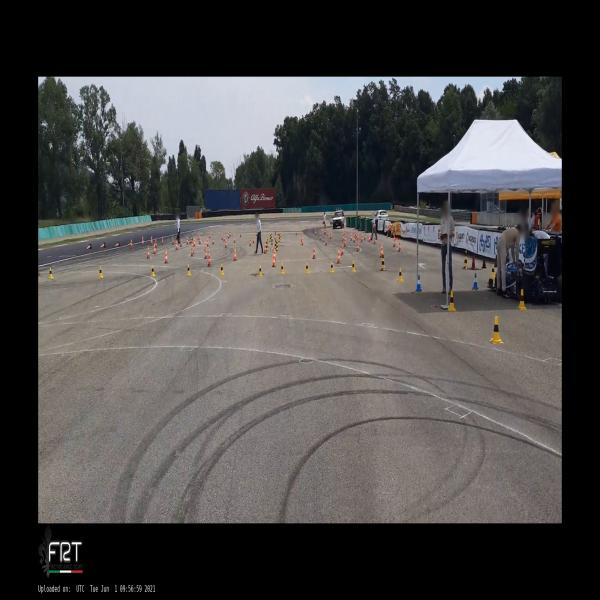blue_cone: (416, 275, 422, 291), (473, 273, 478, 290)
large_orange_cone: (336, 248, 341, 264), (207, 251, 212, 266), (164, 250, 169, 263), (272, 252, 276, 267), (146, 246, 150, 259), (233, 248, 237, 261), (312, 246, 316, 259), (380, 244, 383, 257), (398, 239, 401, 252)
unknown_cone: (462, 250, 468, 269), (380, 252, 386, 271), (470, 252, 476, 270), (482, 256, 487, 268)
yellow_cone: (489, 316, 504, 344), (517, 289, 527, 310), (448, 291, 456, 312), (186, 264, 191, 276), (398, 268, 402, 282), (491, 265, 495, 278), (280, 262, 284, 274), (49, 267, 53, 279), (351, 261, 355, 272), (330, 261, 334, 272), (305, 262, 309, 273), (258, 265, 262, 276), (220, 264, 224, 275), (151, 265, 155, 276), (99, 267, 103, 278)
